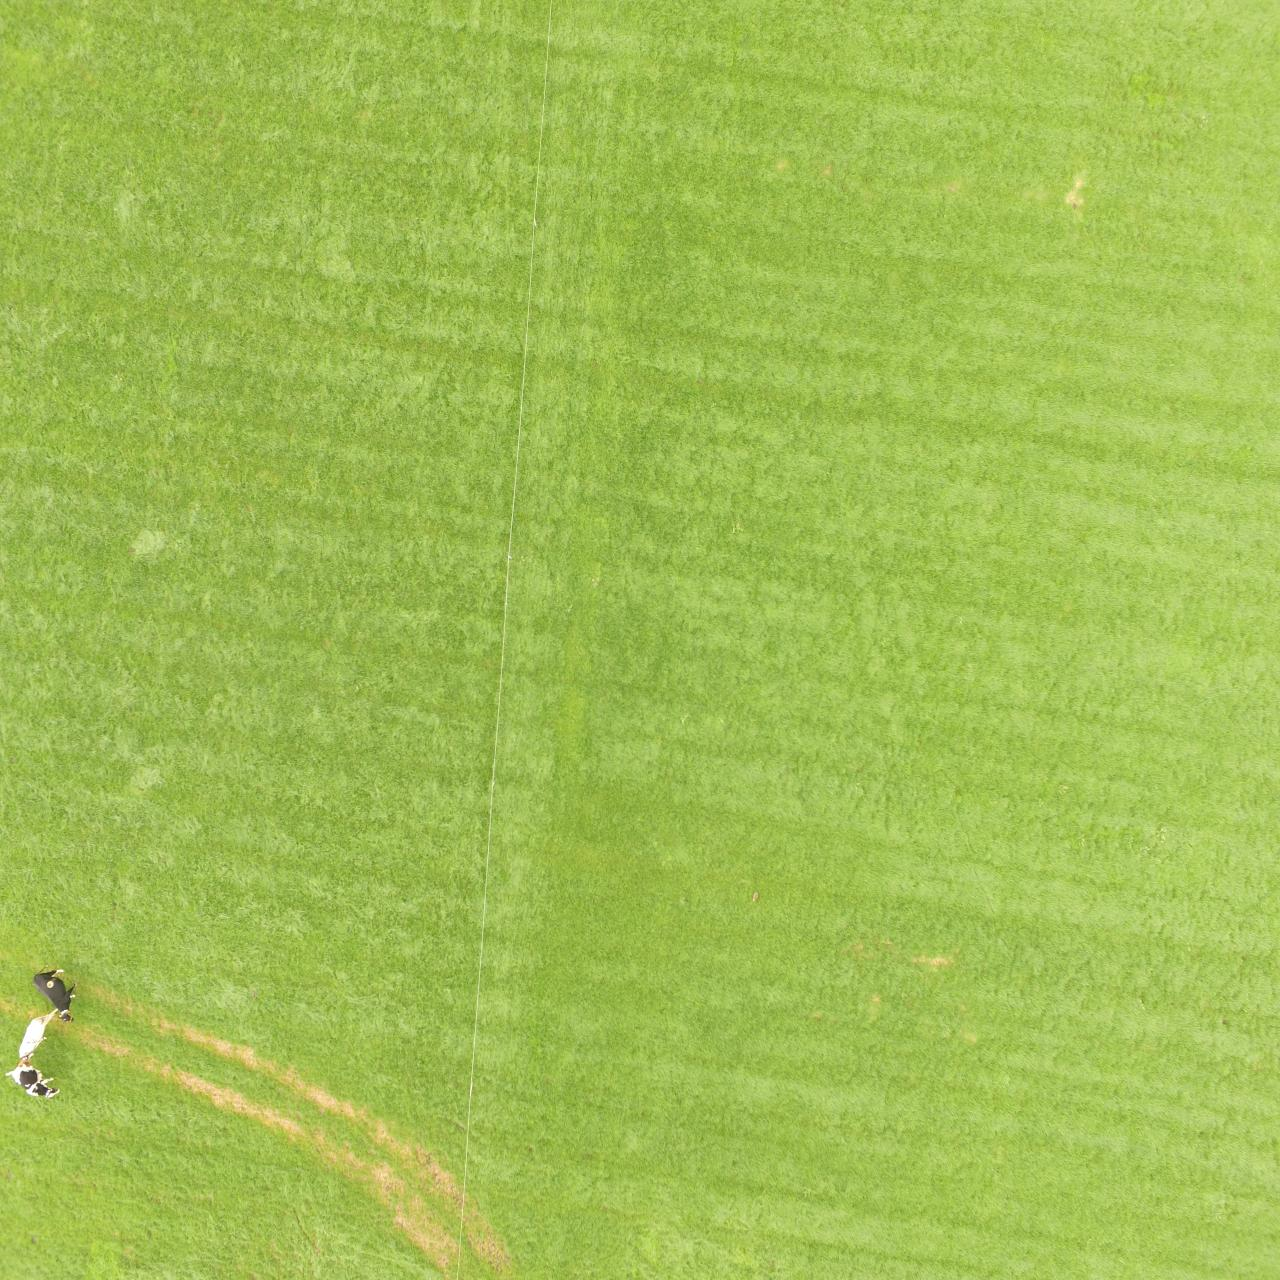cow: (33, 965, 76, 1023), (6, 1057, 64, 1098), (19, 1009, 62, 1058)
